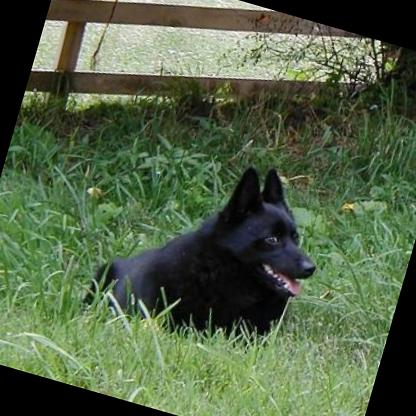schipperke: (80, 129, 339, 372)
